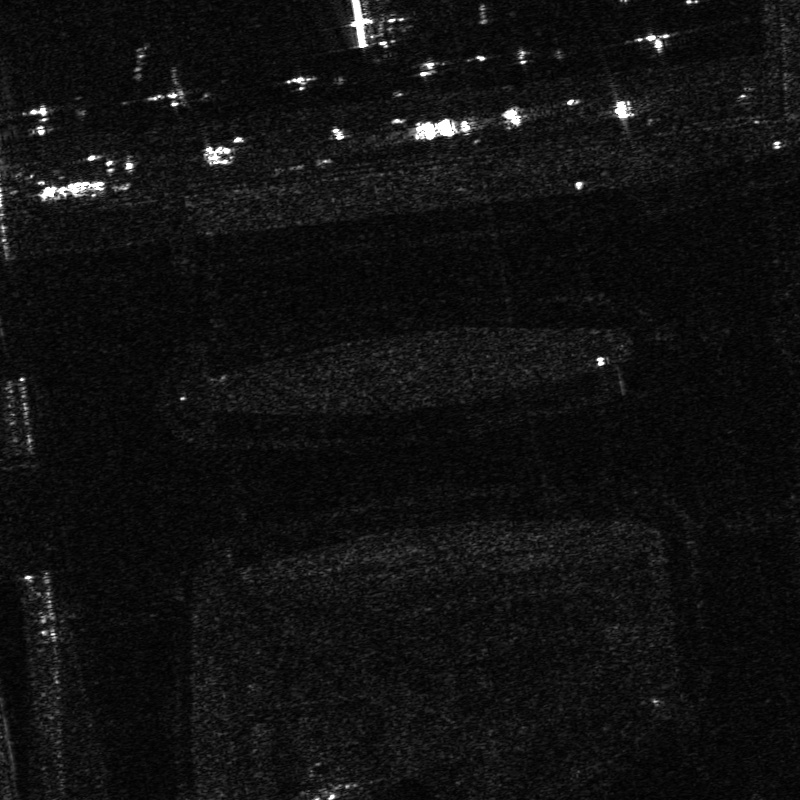Boeing787: (293, 1, 428, 49)
